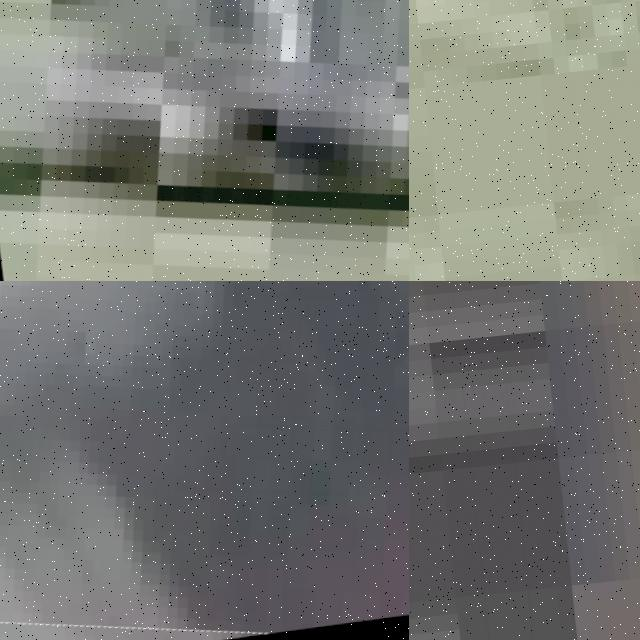drone: (0, 281, 409, 640), (0, 0, 409, 281)
